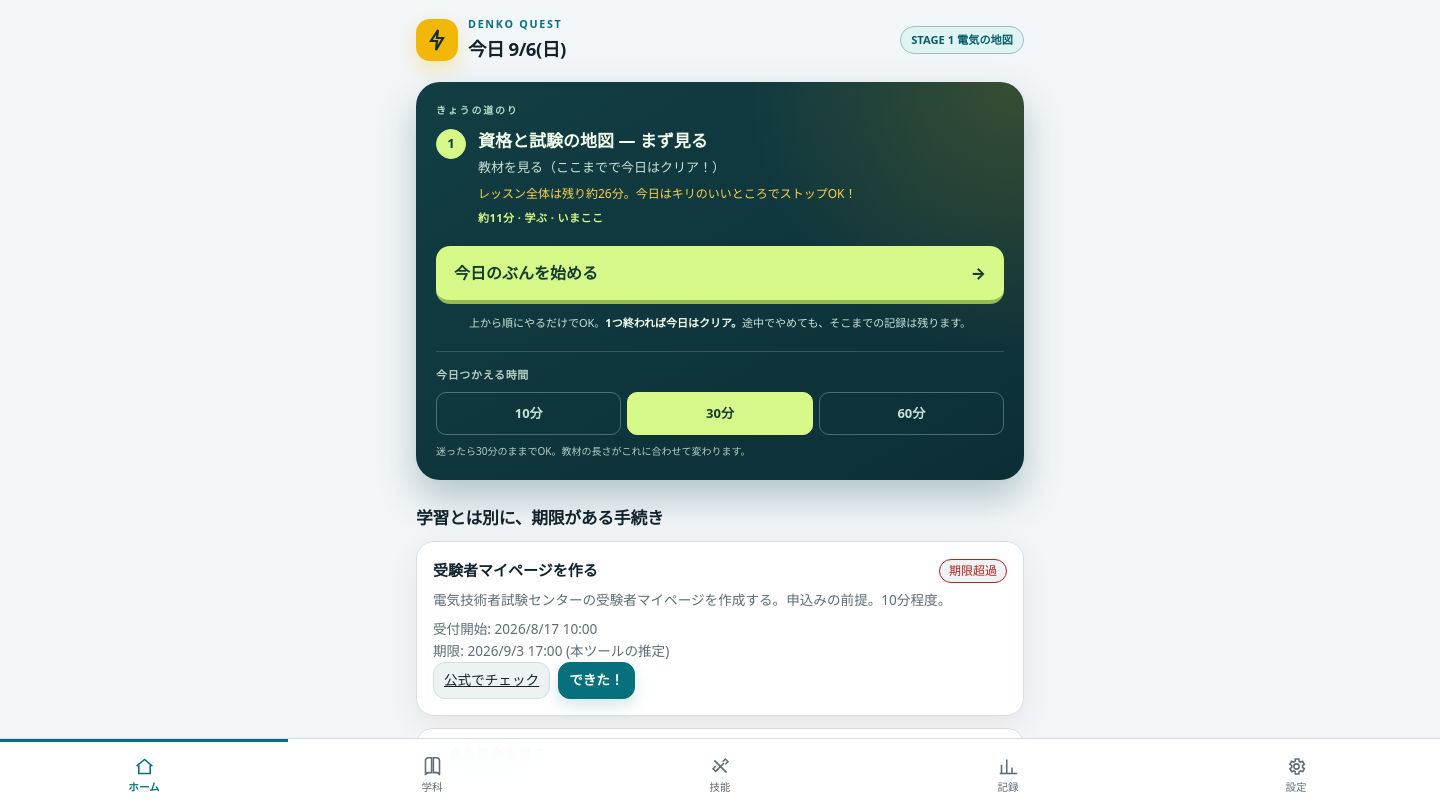
Test case: 学科: 復習は1回押して終わりにならない › 「○ 解けた」を押すと今日は消え、翌日また出る
This screenshot has width=1440, height=810.
Step 1. Click the button "学科" → [432, 775], box [288,739,576,809]
(page scrolled)
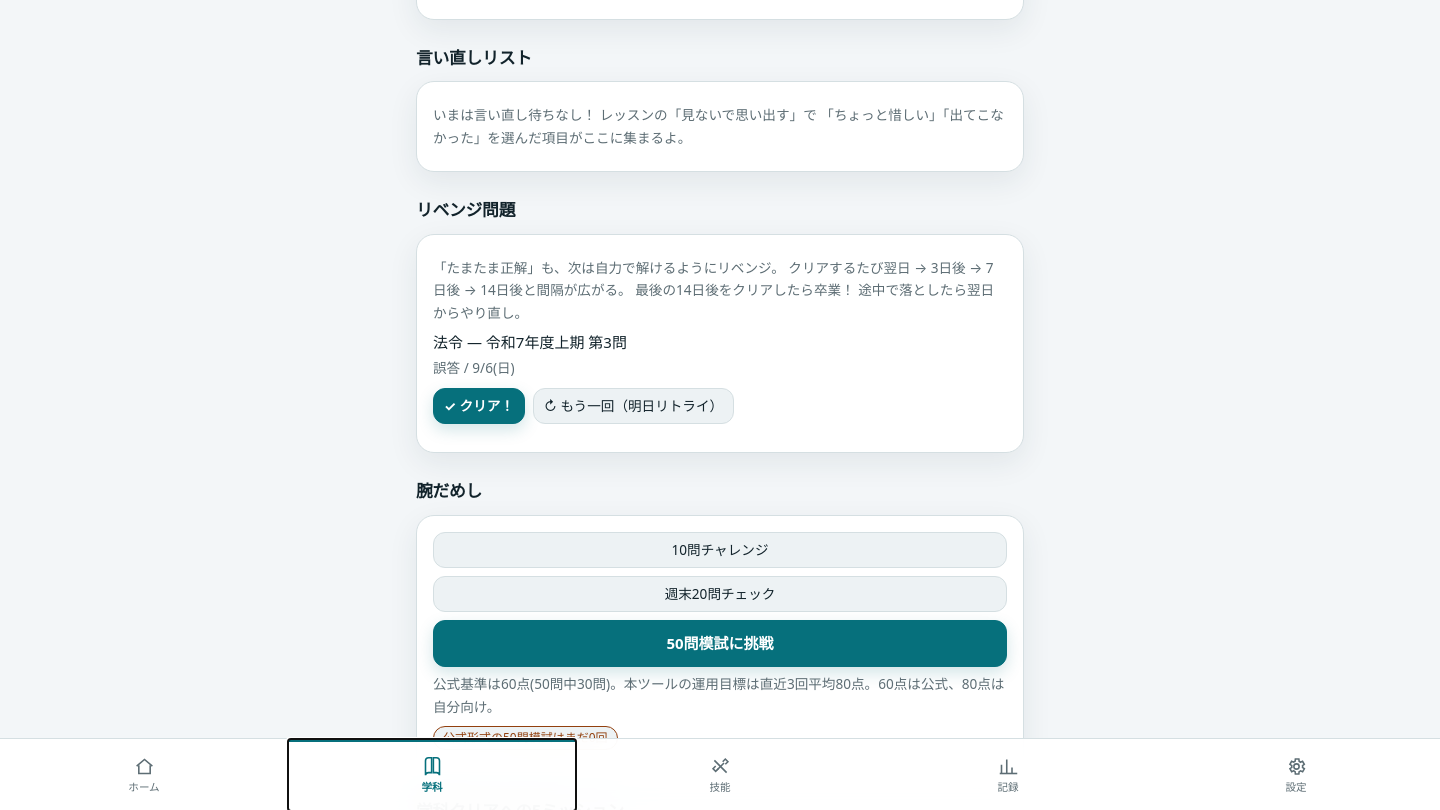
Now the text "第3問" is shown, box [486,332,627,352]
Step 2. Click the button "✓ クリア！" → [479, 406], box [433,388,525,424]
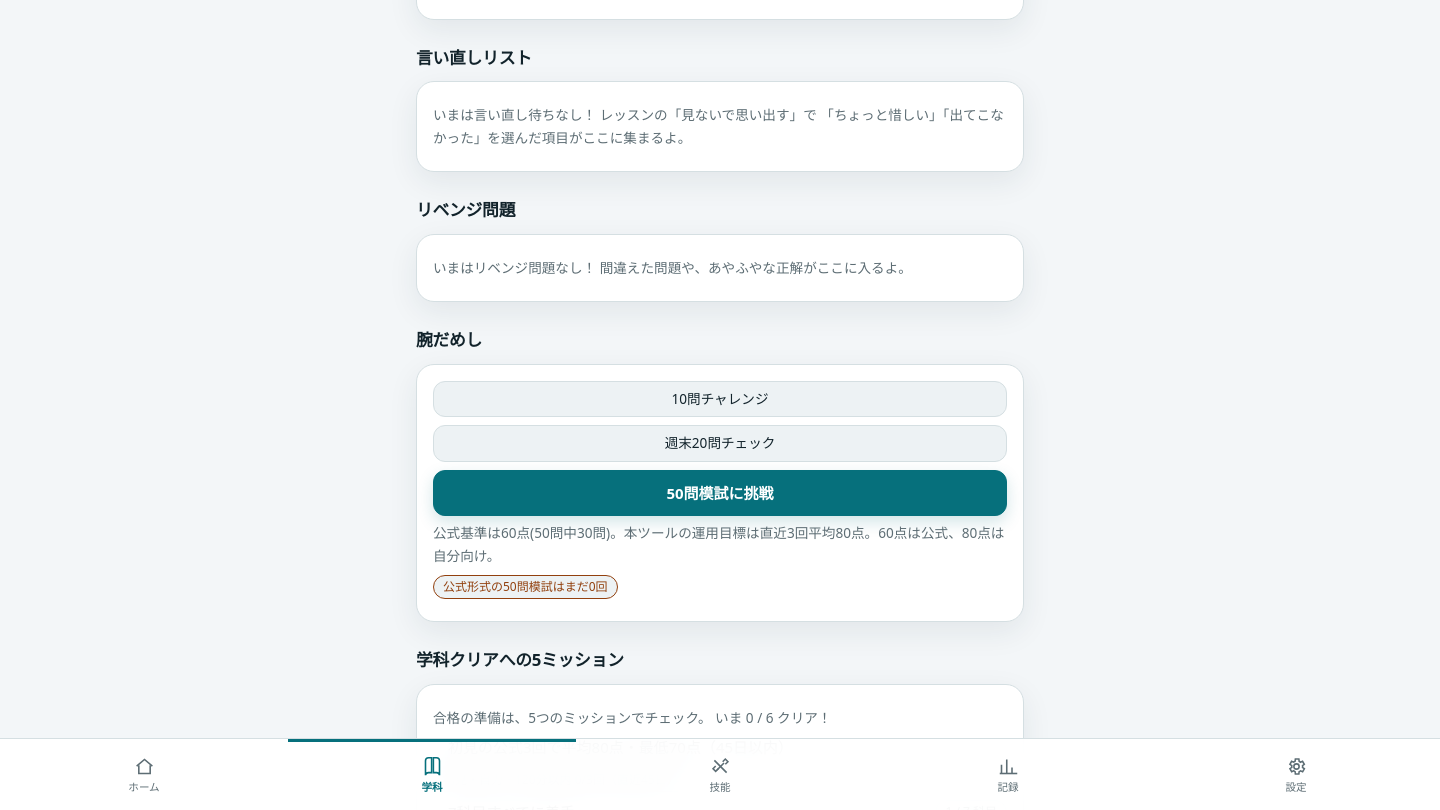
Now the text "第3問" is gone
